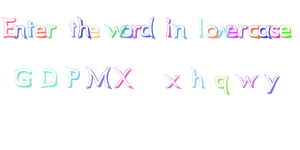D: (39, 65, 60, 91)
E: (2, 11, 16, 44)
G: (11, 65, 36, 93)
M: (82, 63, 112, 92)
P: (64, 64, 82, 91)
X: (113, 62, 137, 95)
a: (258, 22, 273, 42)
c: (247, 21, 260, 42)
d: (141, 13, 157, 43)
e: (279, 21, 294, 43), (225, 20, 240, 41), (88, 21, 102, 43), (35, 21, 48, 43)
h: (187, 64, 208, 92), (79, 12, 89, 41)
i: (162, 15, 173, 44)
l: (197, 13, 205, 44)
n: (172, 22, 191, 40), (14, 22, 28, 42)
o: (205, 21, 220, 44), (121, 22, 133, 42)
q: (212, 70, 233, 98)
r: (237, 21, 250, 41), (132, 20, 142, 42), (46, 24, 58, 41)
s: (270, 22, 281, 43)
t: (26, 18, 36, 41), (68, 21, 77, 41)
w: (235, 69, 258, 91), (104, 21, 126, 41), (216, 23, 230, 41)
x: (160, 68, 183, 92)
y: (259, 71, 285, 99)
